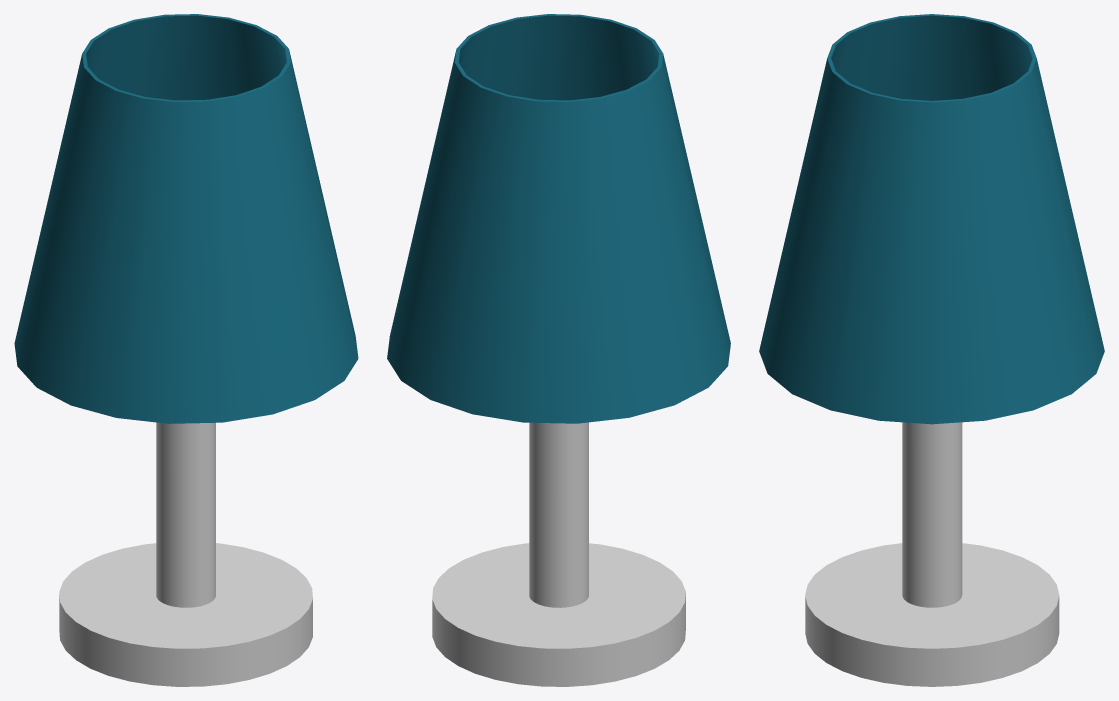
The model's file is LampeChevet2_3.fbx.
3 views of the same model, side by side, from view 1: azimuth 30°, elevation 25°; view 2: azimuth 150°, elevation 25°; view 3: azimuth 270°, elevation 25° (orthographic).
Parts seen in each view (by area): view 1: pPipe109, pCylinder763; view 2: pPipe109, pCylinder763; view 3: pPipe109, pCylinder763.
Boxes of the visible parts, left/top/right/bottom form: pPipe109: left=14, top=14, right=358, bottom=423; pCylinder763: left=59, top=422, right=312, bottom=686; pPipe109: left=387, top=14, right=730, bottom=423; pCylinder763: left=432, top=422, right=685, bottom=686; pPipe109: left=759, top=14, right=1104, bottom=424; pCylinder763: left=805, top=422, right=1059, bottom=686.
Bounding box in the file's own units: 13.33 × 24.46 × 13.33.
